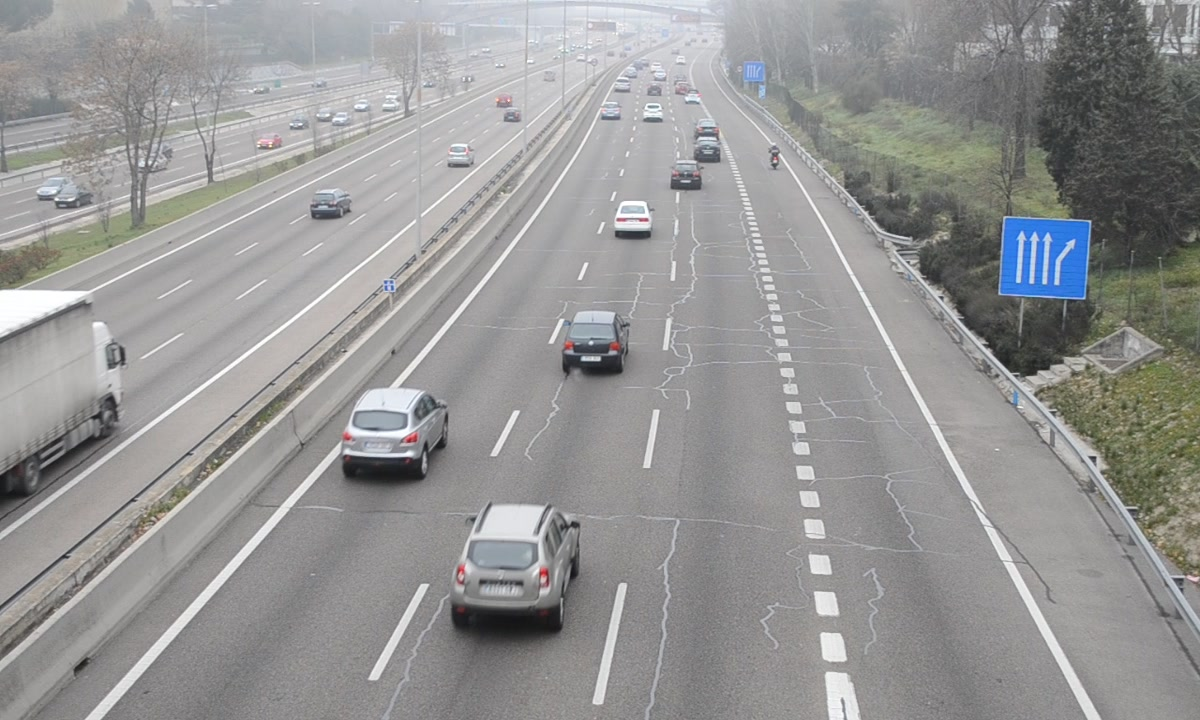car: (450, 505, 580, 615), (343, 389, 450, 462), (562, 311, 629, 370), (614, 199, 653, 234), (669, 160, 703, 189), (695, 137, 723, 161), (696, 118, 722, 139)
motorcycle: (769, 144, 782, 172)
